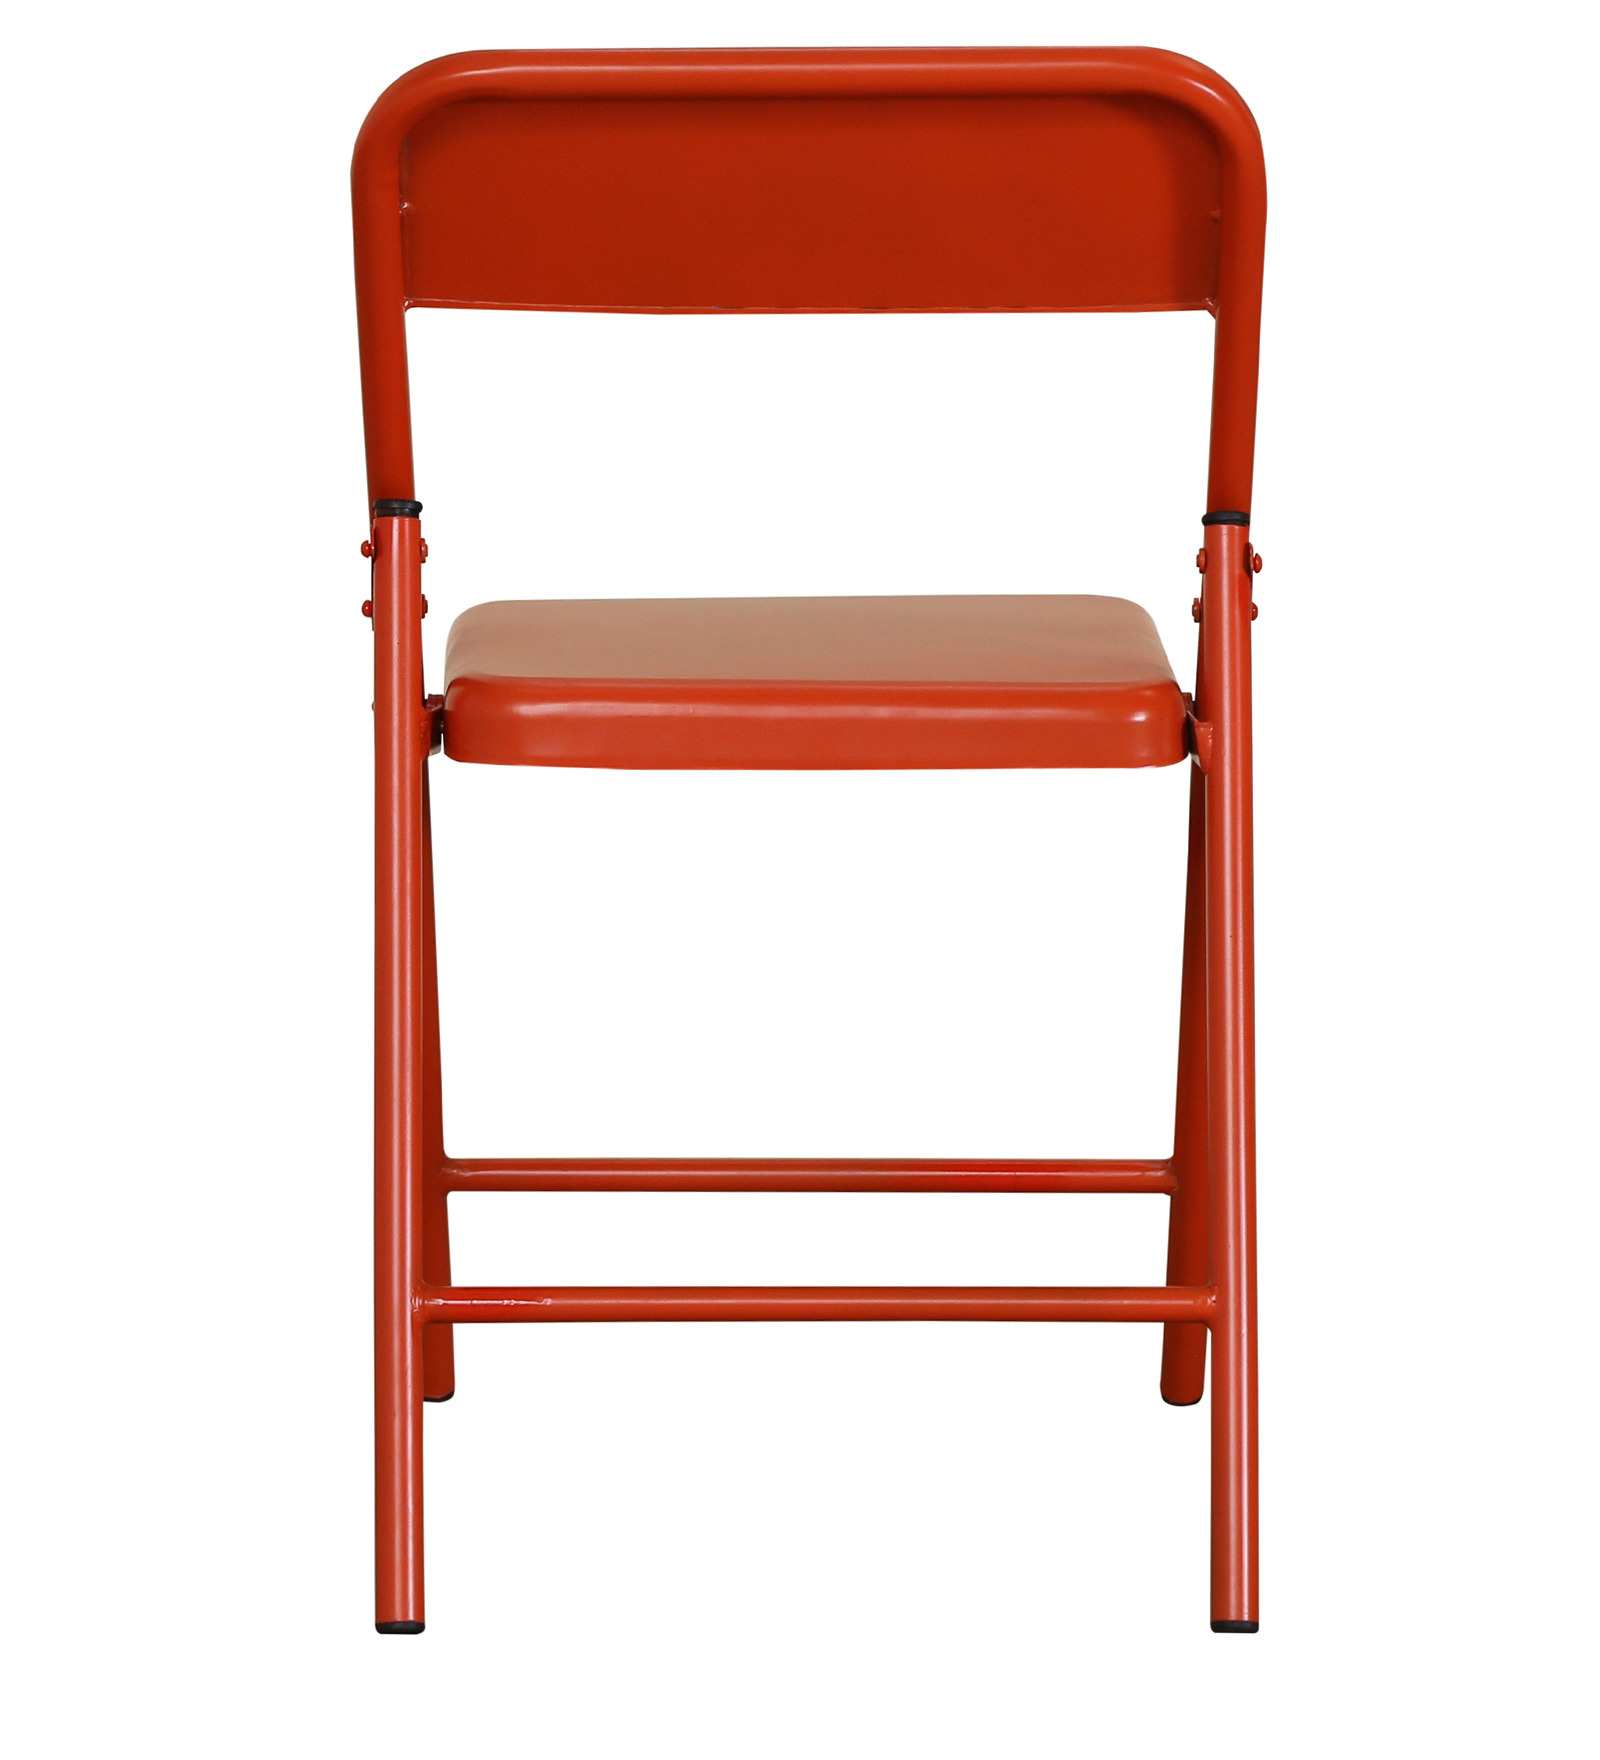Kell Folding Chair (Set of 2) in Orange Color by Bohemiana: (310, 26, 1320, 1682)
